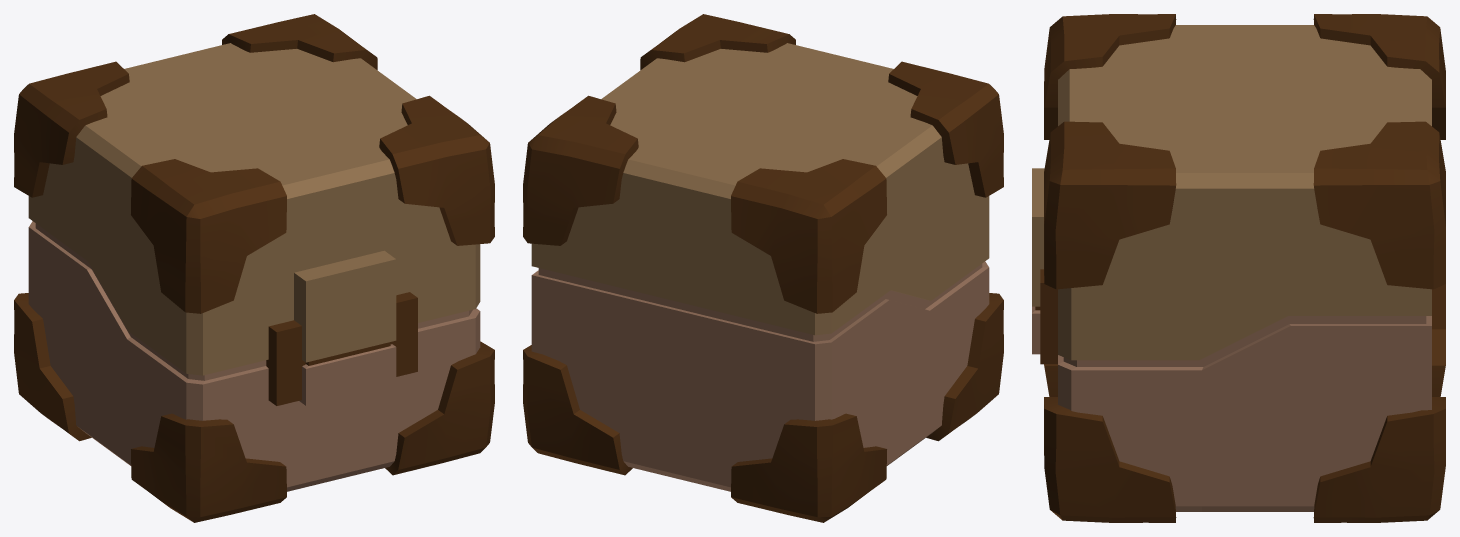
File: quaternius-ultimate-space-pickup-crate-transformed.glb
The picture shows the model from 3 angles, left to right: view 1: azimuth 30°, elevation 25°; view 2: azimuth 150°, elevation 25°; view 3: azimuth 270°, elevation 25°; orthographic projection. The views are drawn at different scales.
Parts seen in each view (by area): view 1: Pickup_Crate; view 2: Pickup_Crate; view 3: Pickup_Crate.
Boxes of the visible parts, x1,y1,x2,y2 form: Pickup_Crate: (14,14,494,522); Pickup_Crate: (523,14,1003,522); Pickup_Crate: (1032,14,1445,522).
Bounding box in the file's own units: 0.8729 × 0.8576 × 0.899.
1 material, 1 textured.
